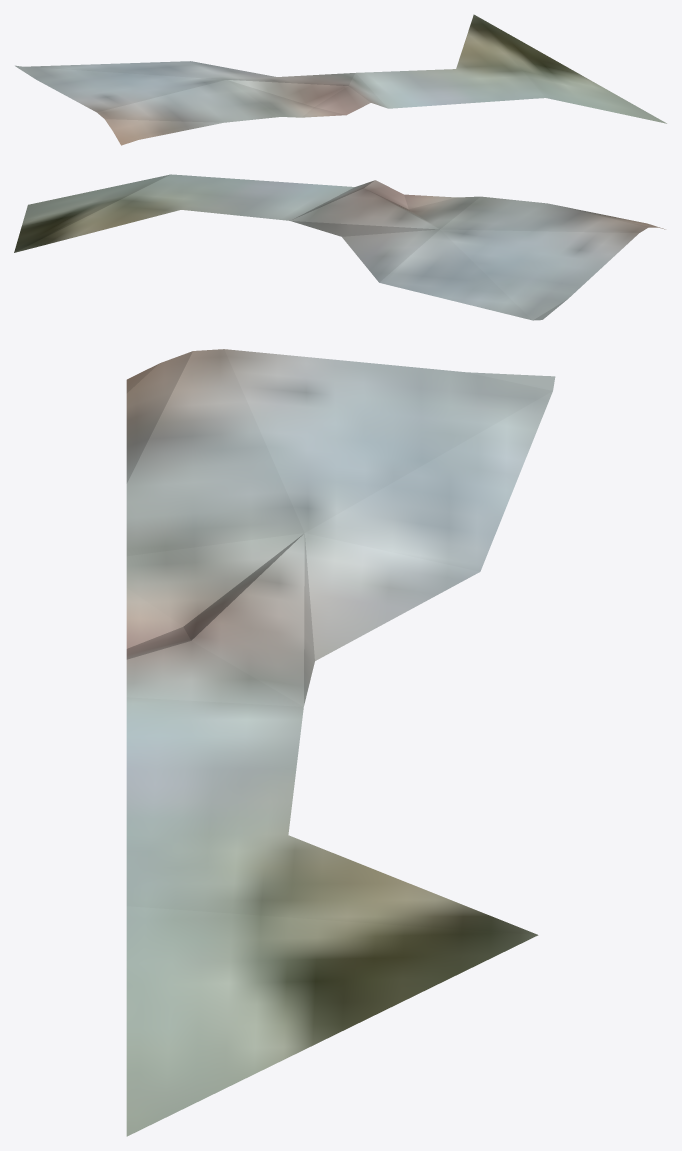
3 views of the same model, one above another, from view 1: azimuth 30°, elevation 25°; view 2: azimuth 150°, elevation 25°; view 3: azimuth 270°, elevation 25° (orthographic). The views are drawn at different scales.
Bounding box in the file's own units: 4.5 × 0.9982 × 1.53.
Materials: 1 (1 with a texture image).
